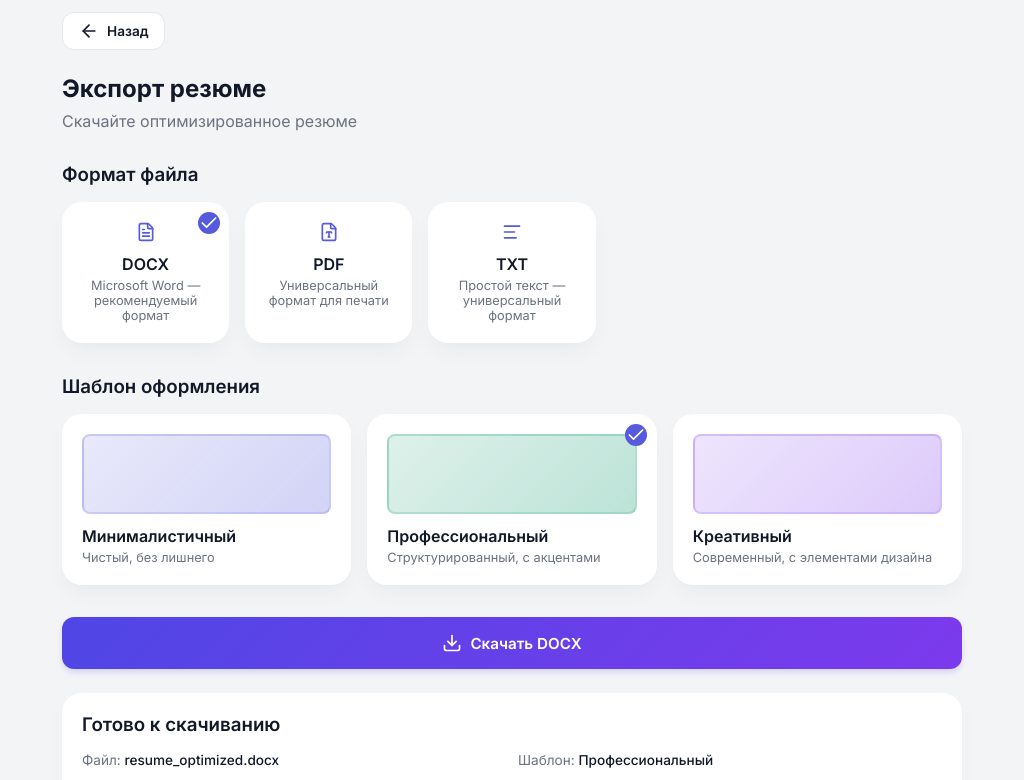
ExportPage — Functional: Format selection › clicking TXT card changes button to "Скачать TXT"
The width and height of the screenshot is (1024, 780).
Click the text "TXT" at (512, 264), box [496, 254, 528, 274]
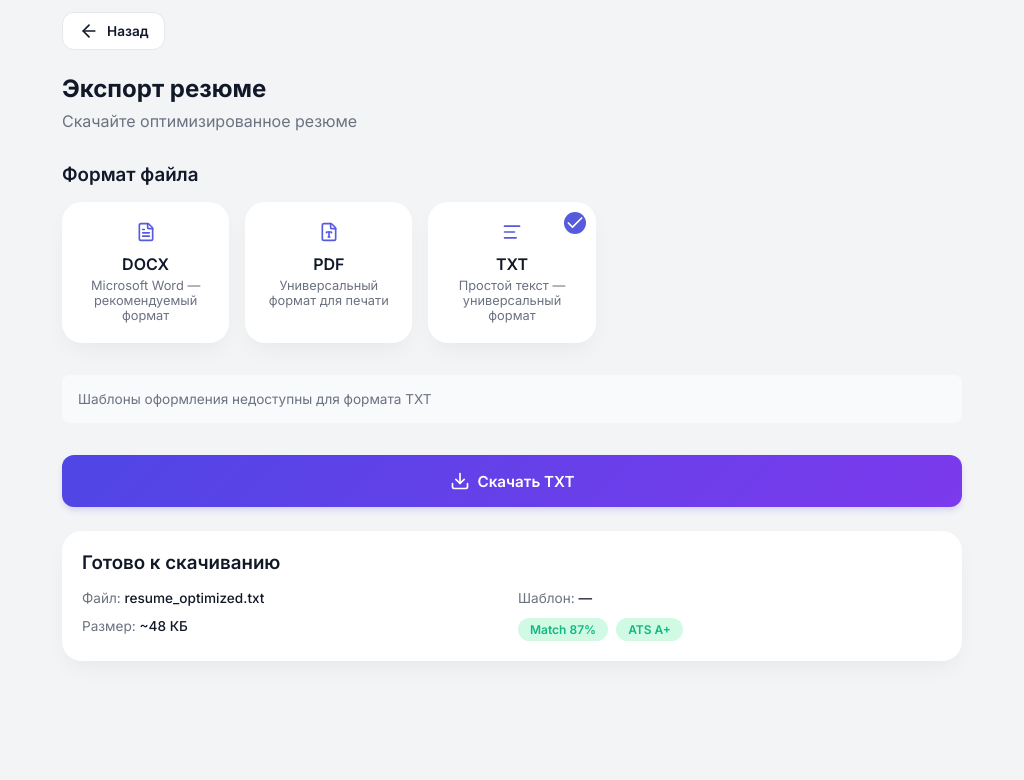
Check: the button "Скачать TXT" is shown, box [62, 455, 962, 507]
